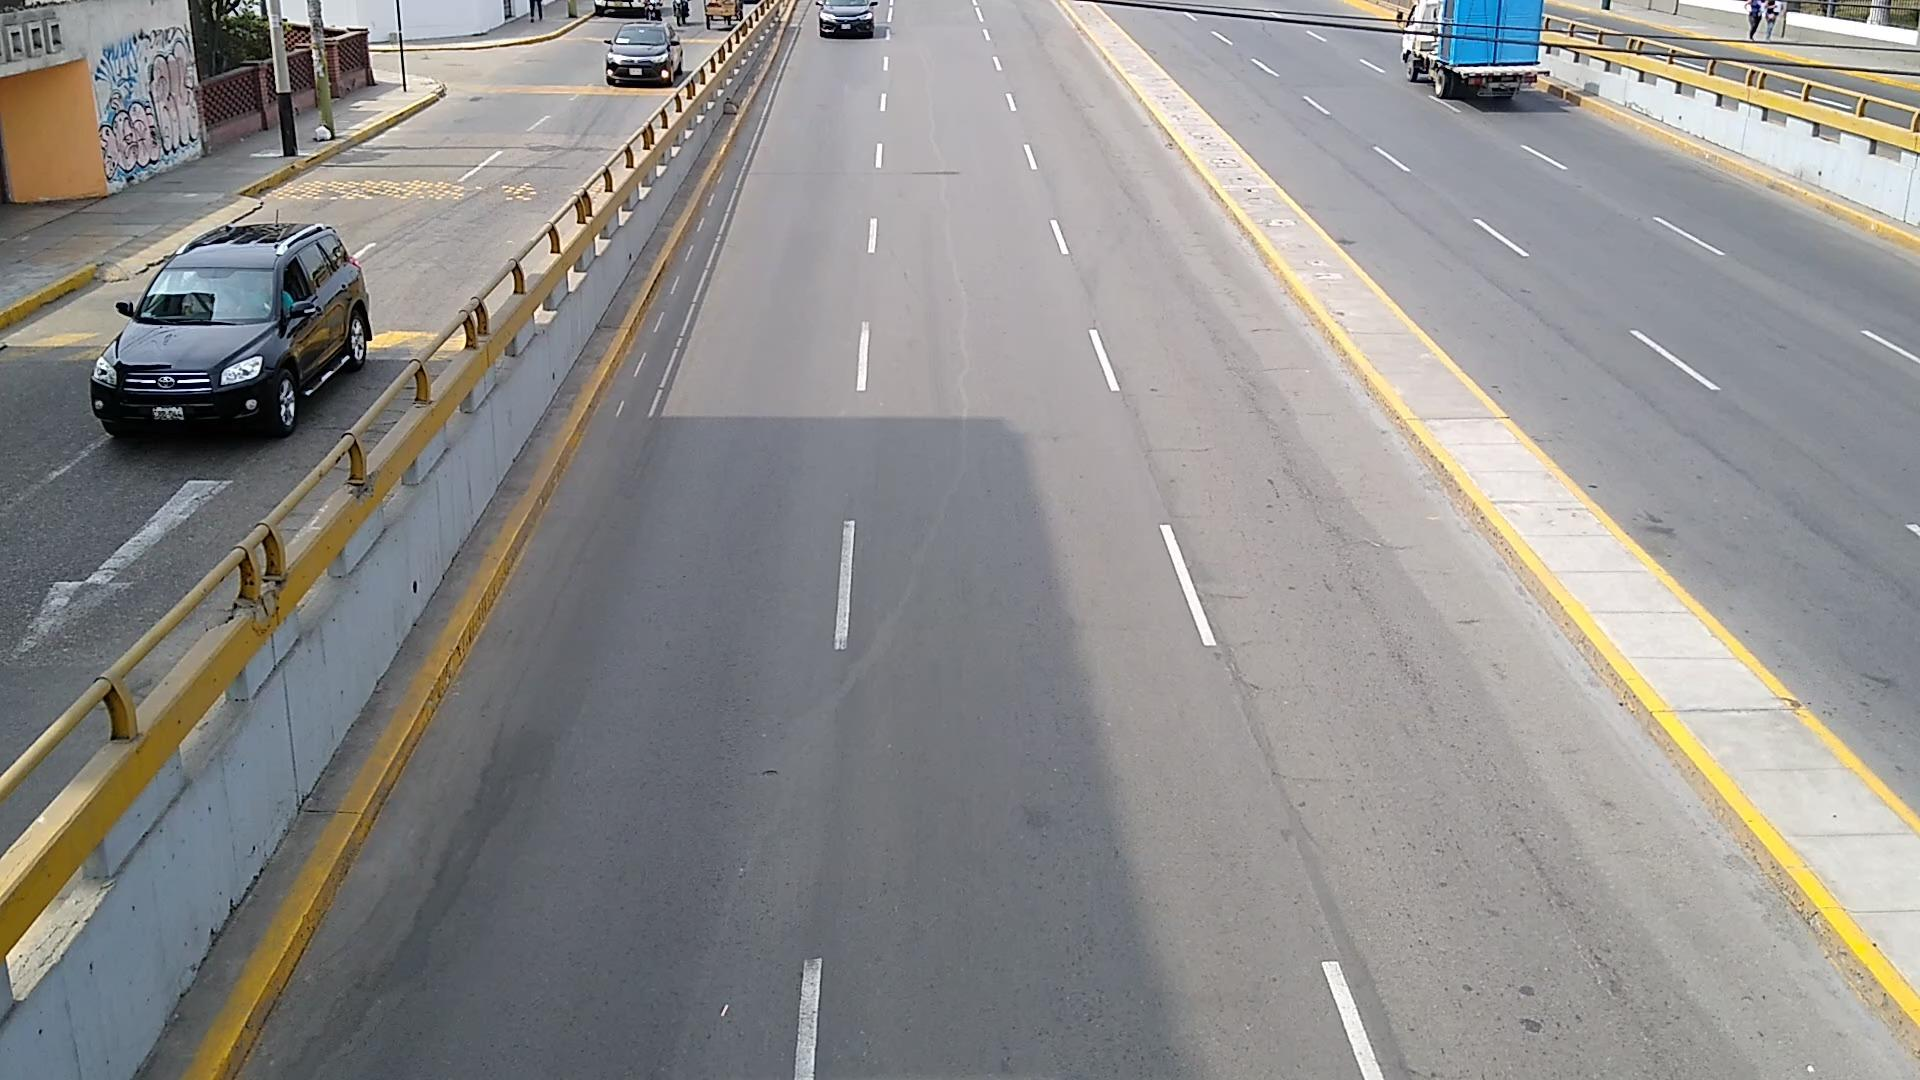car: (90, 225, 372, 435), (608, 22, 683, 86)
lorry: (1403, 0, 1542, 98)
